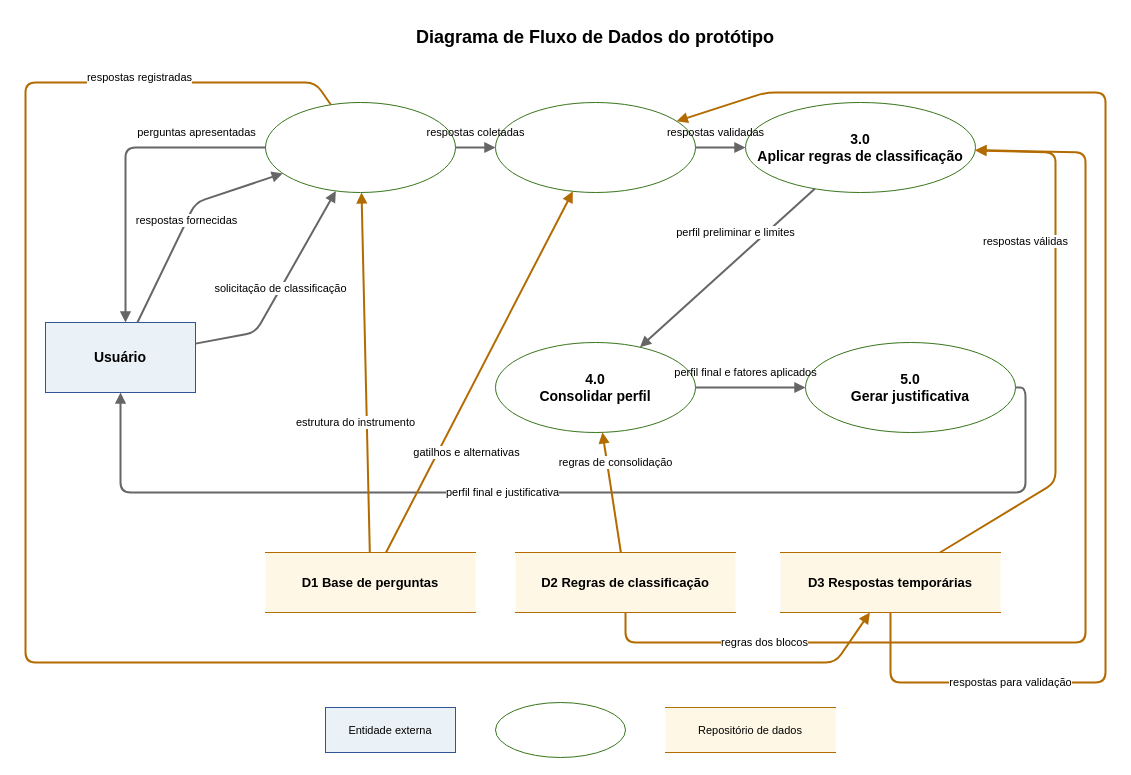
The diagram is 1131 pixels wide and 775 high, and some of its shapes have lost their labels. Here are the shapes that lost their labels. From the top down, the box of each, then its label:
(264, 102, 456, 192): 1.0 Coletar respostas
(494, 102, 696, 192): 2.0 Validar preenchimento
(494, 702, 626, 758): Processo
